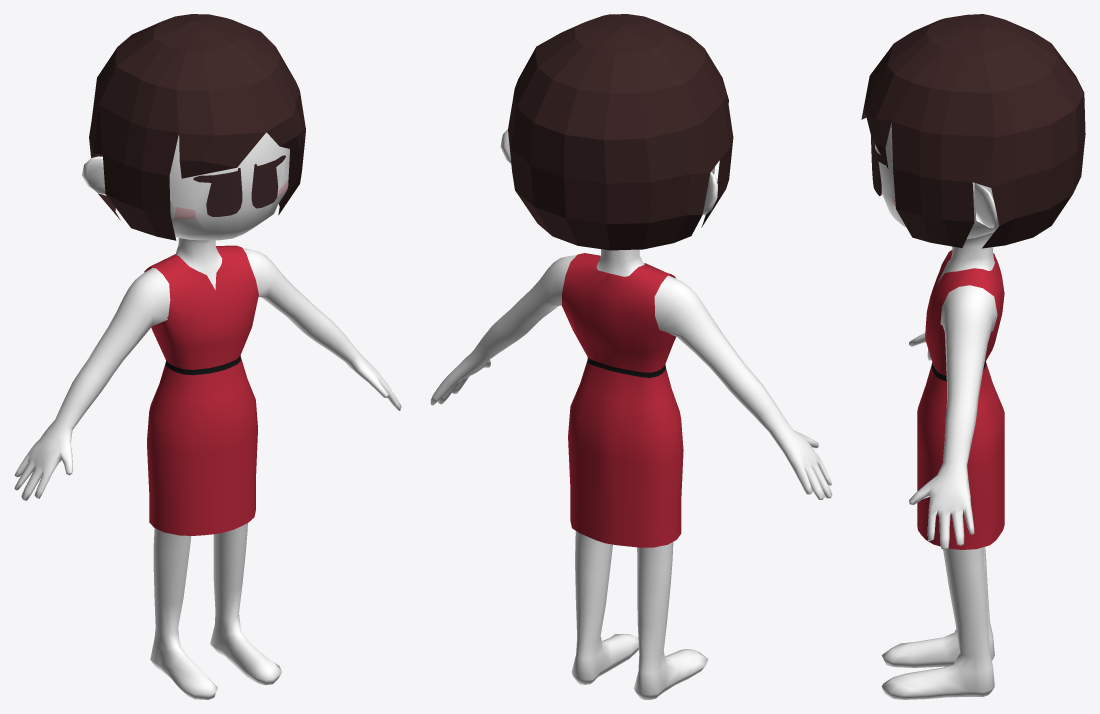
Rendered from Shane.fbx.
3 renders of one model, left to right at view 1: azimuth 30°, elevation 25°; view 2: azimuth 150°, elevation 25°; view 3: azimuth 270°, elevation 25°, orthographic. The views are drawn at different scales.
Visible parts, largest first — view 1: Shane; view 2: Shane; view 3: Shane.
Part boxes in pixels (bbox=[...]): Shane: bbox=[14, 14, 401, 699]; Shane: bbox=[430, 14, 832, 699]; Shane: bbox=[861, 14, 1085, 699].
Size of the model in its own units: 110 by 176 by 54.84.
